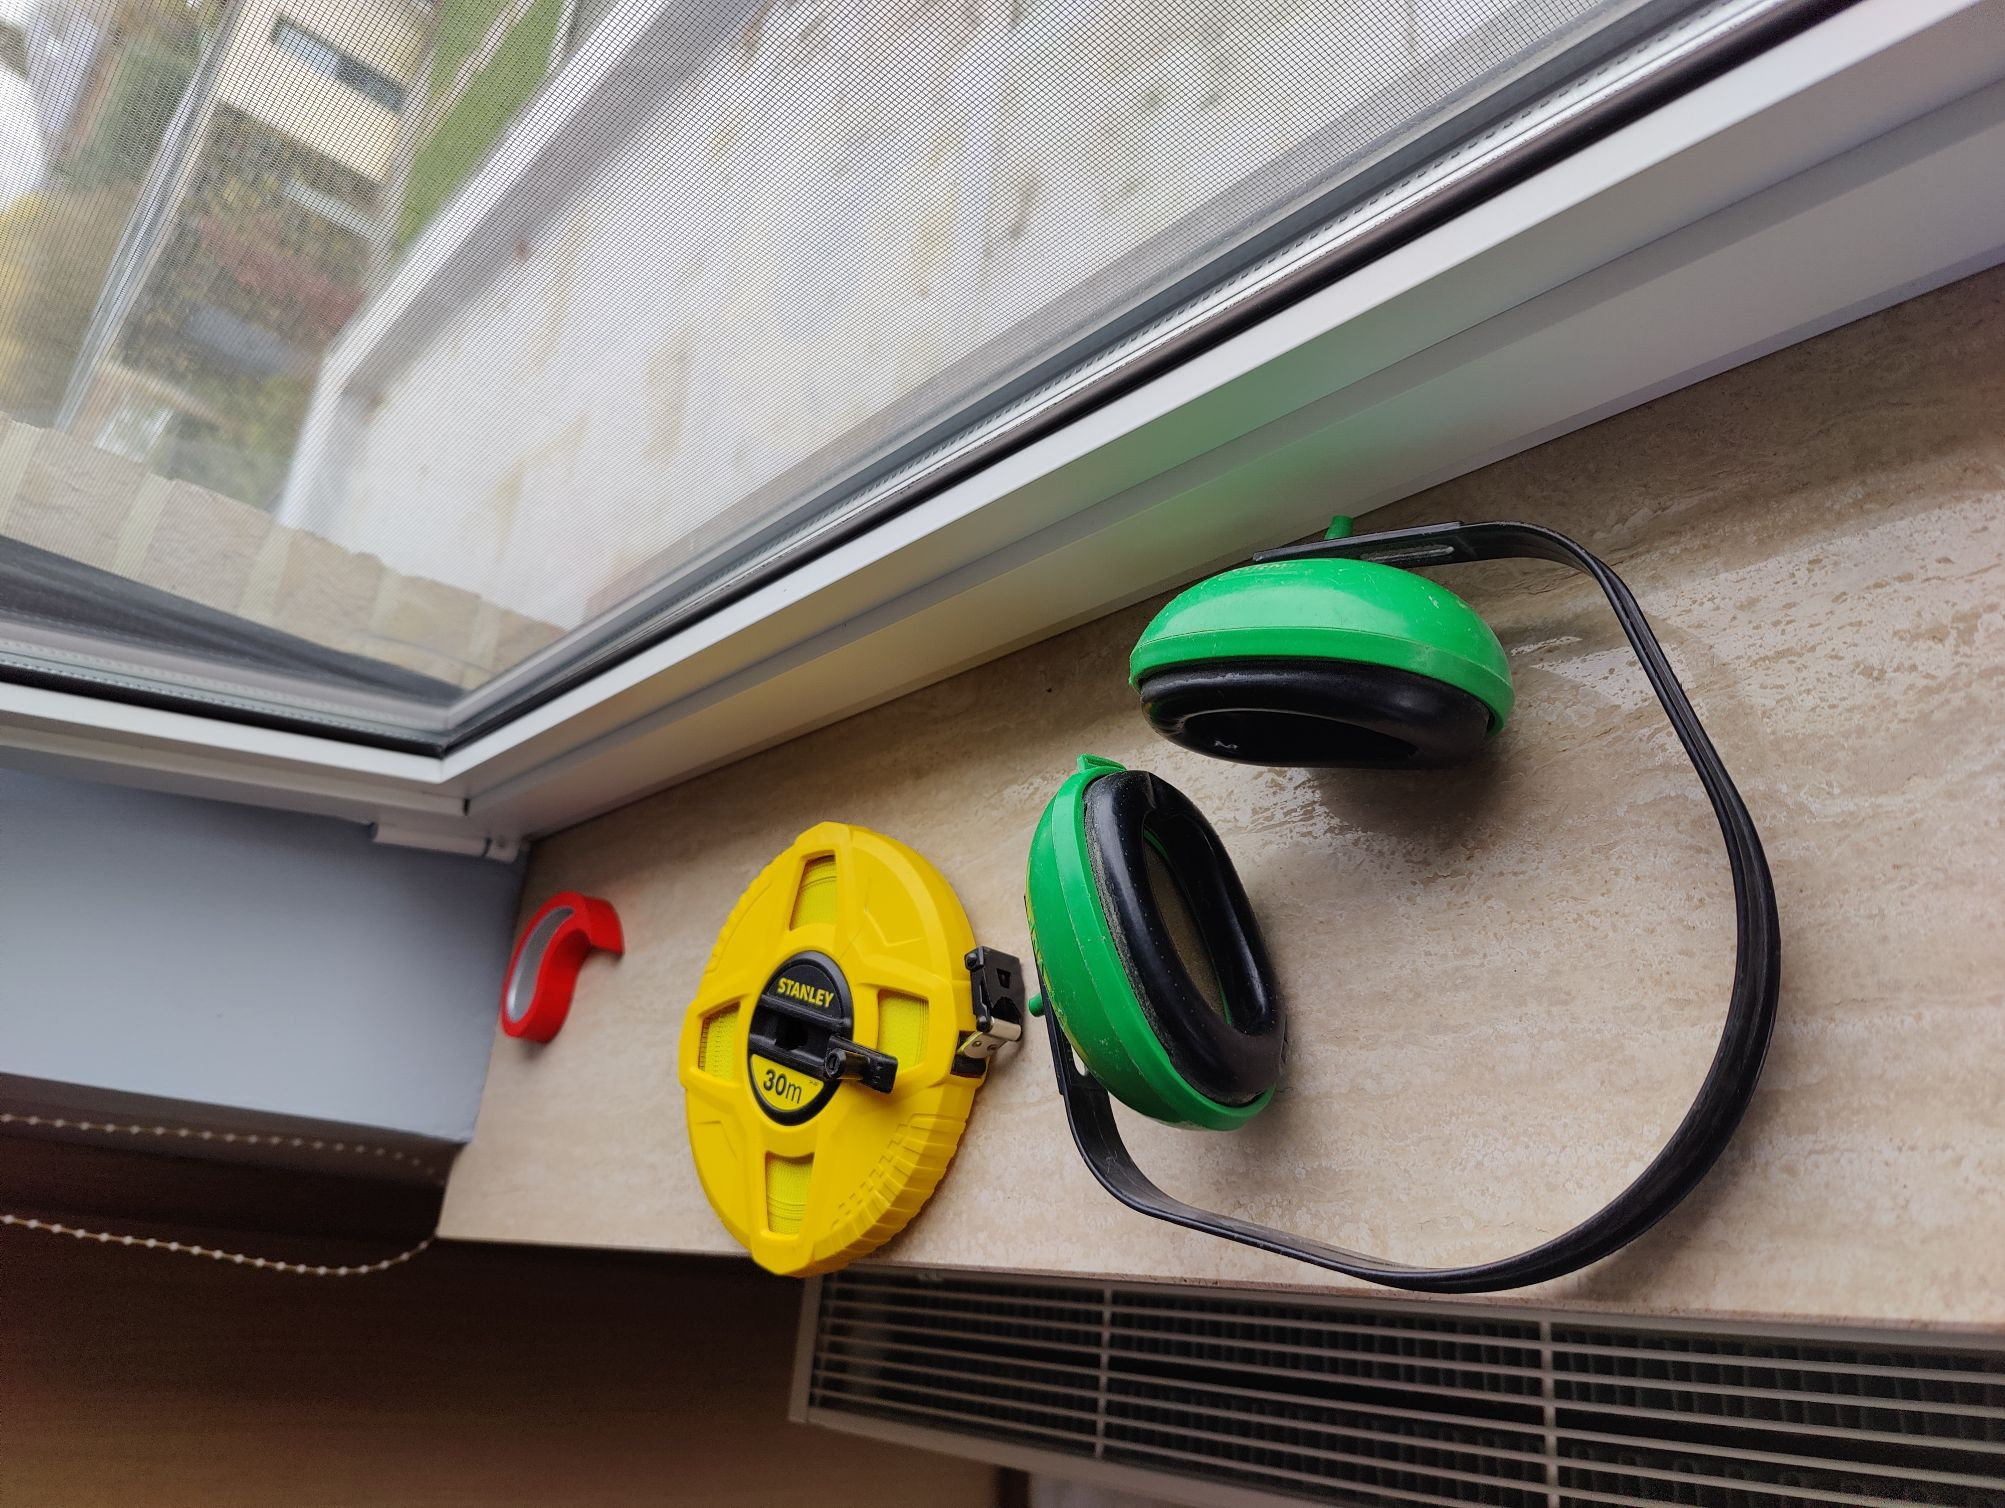headphones: (1028, 513, 1790, 1288)
tapemeasure: (679, 813, 1022, 1278)
